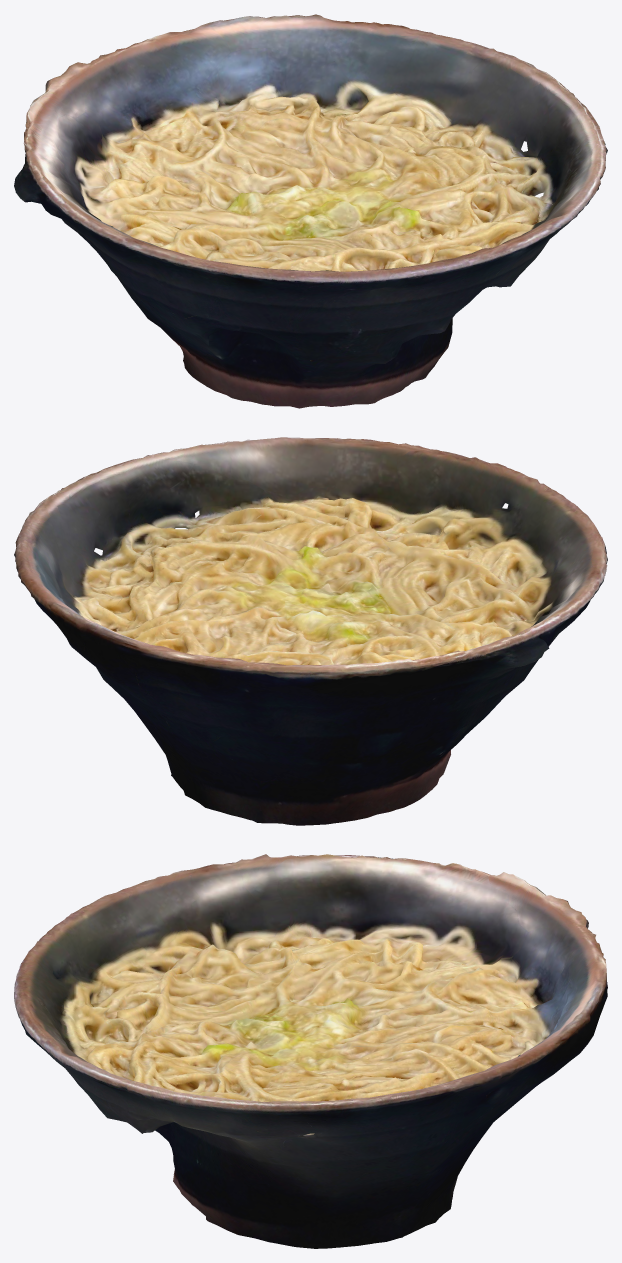
File: KakeSoba.glb
3 renders of one model, top to bottom at view 1: azimuth 30°, elevation 25°; view 2: azimuth 150°, elevation 25°; view 3: azimuth 270°, elevation 25°, orthographic.
Parts seen in each view (by area): view 1: 0de29454-8923-4ef9-bfe9-405c3c34c13d; view 2: 0de29454-8923-4ef9-bfe9-405c3c34c13d; view 3: 0de29454-8923-4ef9-bfe9-405c3c34c13d.
Part boxes in pixels (left/top/right/bottom): 0de29454-8923-4ef9-bfe9-405c3c34c13d: left=14, top=14, right=607, bottom=408; 0de29454-8923-4ef9-bfe9-405c3c34c13d: left=14, top=437, right=607, bottom=825; 0de29454-8923-4ef9-bfe9-405c3c34c13d: left=14, top=854, right=607, bottom=1248.
Bounding box in the file's own units: 0.2212 × 0.0909 × 0.2171.
Materials: 1 (1 with a texture image).
